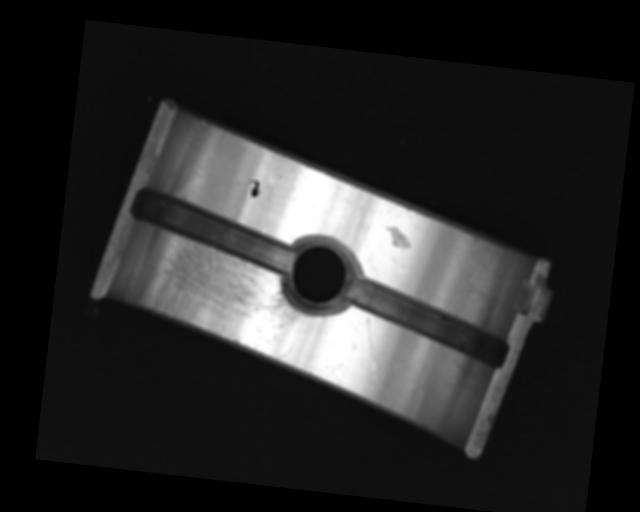blot: (246, 178, 261, 198)
bruise: (384, 225, 413, 251)
gap: (341, 275, 514, 368), (126, 186, 299, 277)
hole: (279, 231, 357, 316)
nick: (360, 318, 383, 379)
scratch: (134, 225, 314, 361)
